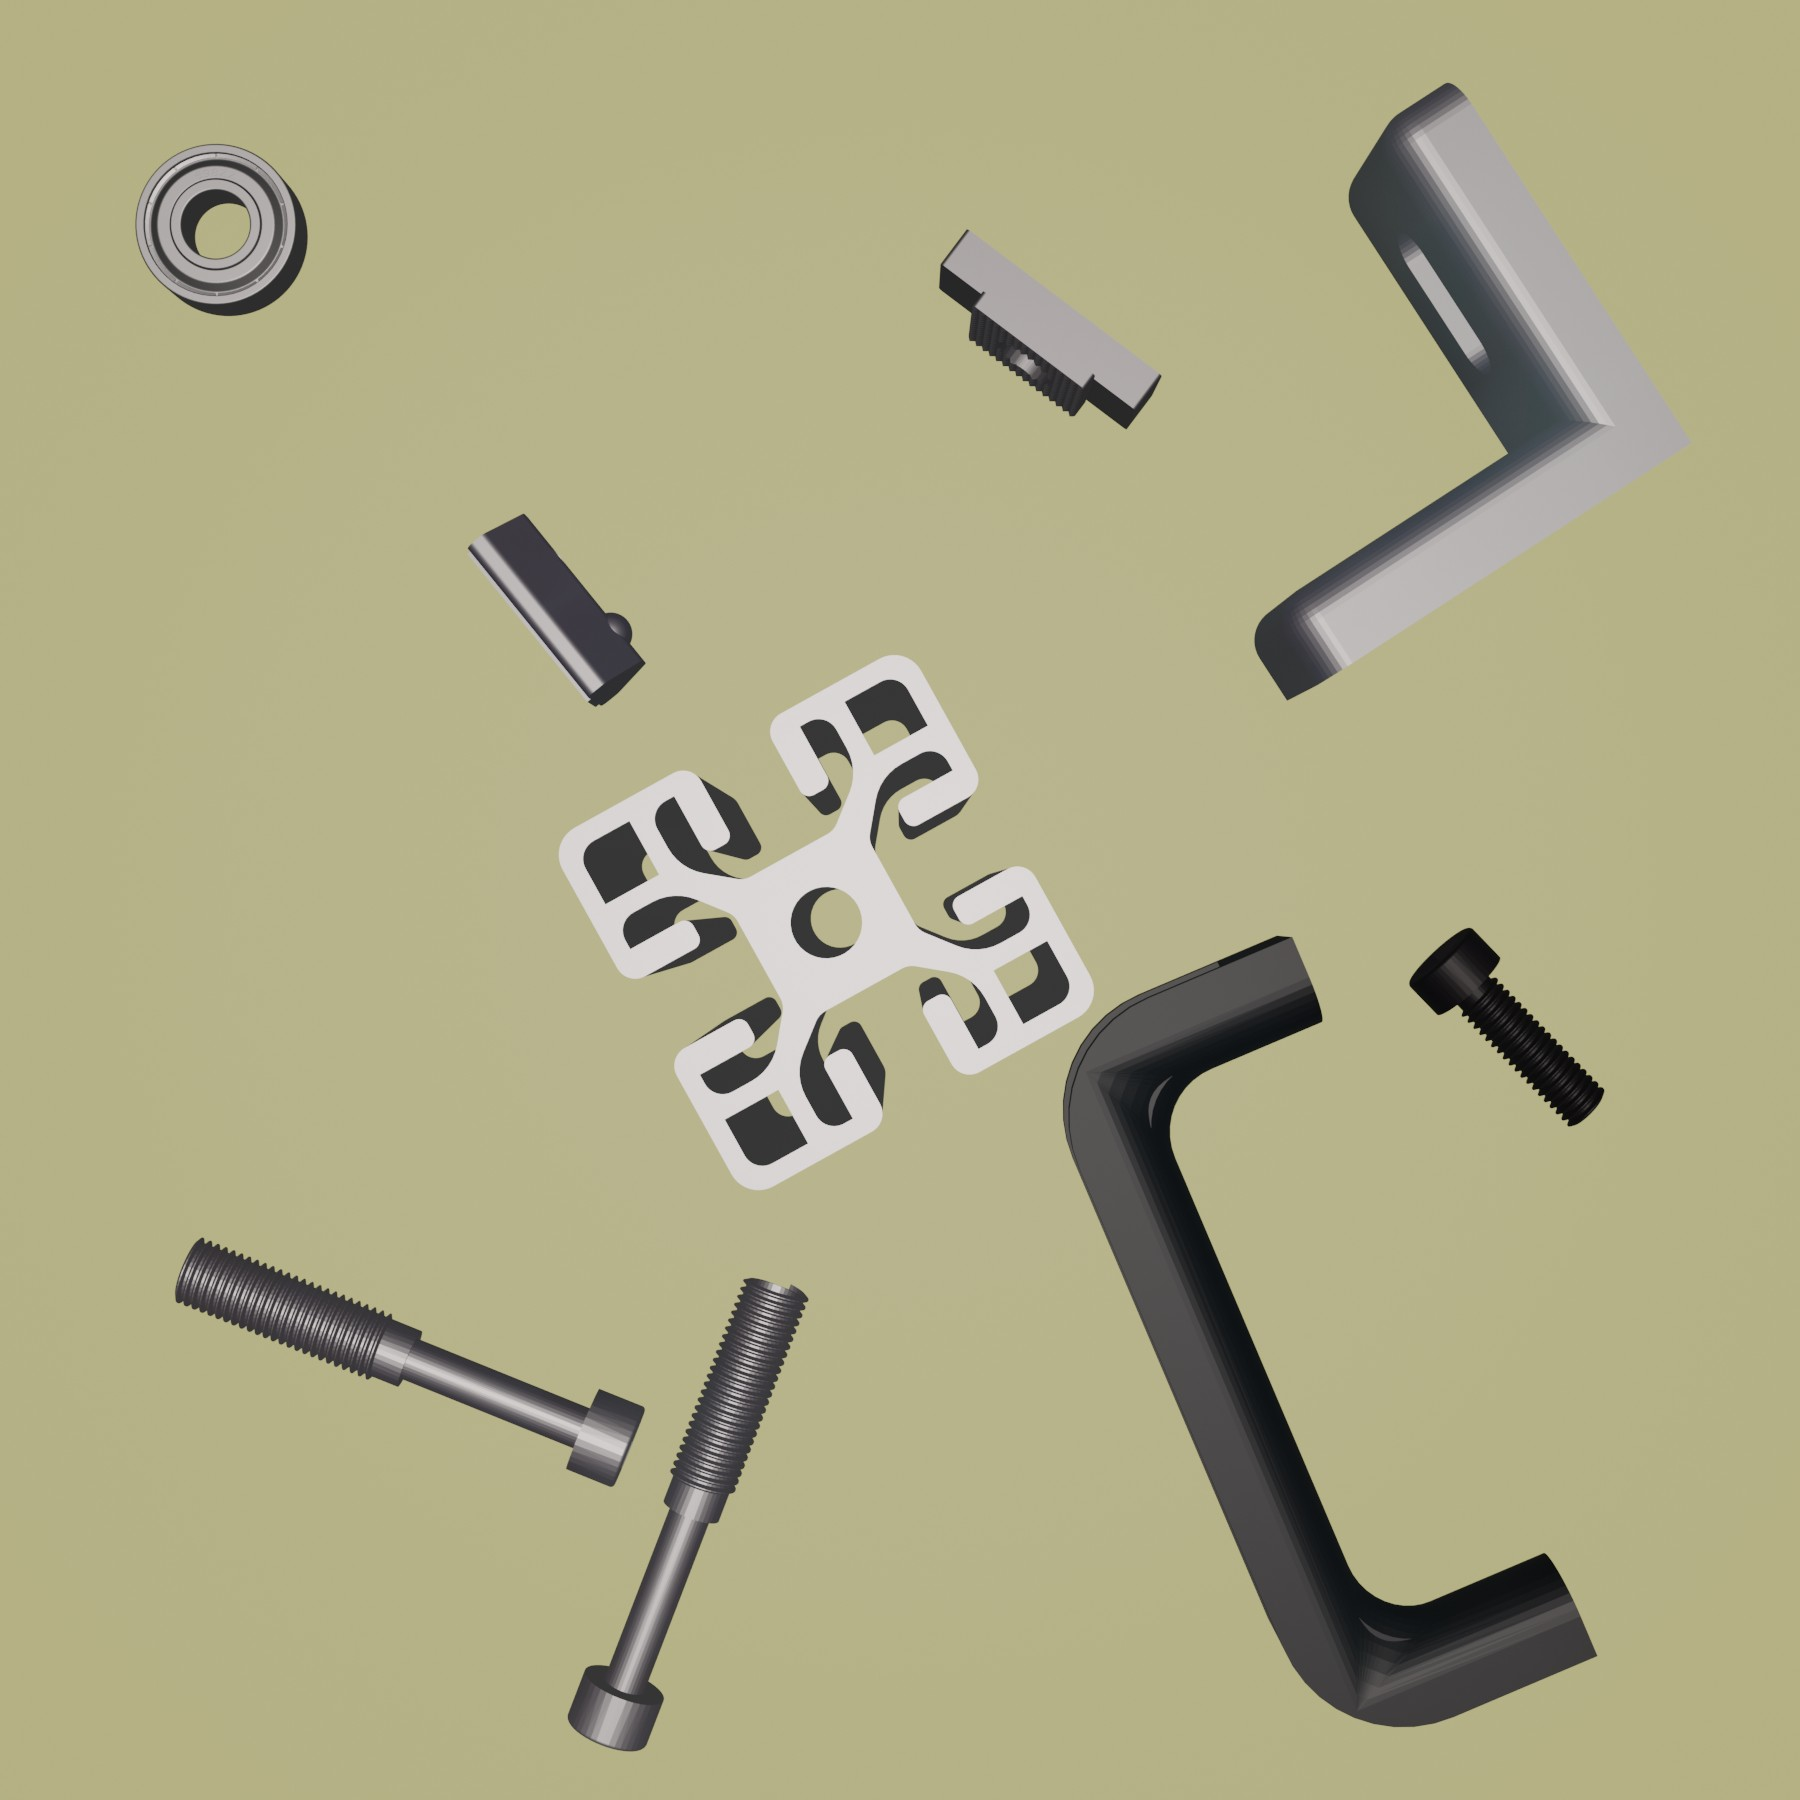Aluminium Extension: (555, 653, 1093, 1195)
Ball Bearing: (134, 138, 312, 318)
Multiwinkel: (1253, 76, 1693, 704)
Pull Handle: (1062, 930, 1597, 1731)
Shoulder Socket Head Cap Screw: (170, 1235, 646, 1488), (565, 1274, 809, 1755)
Socket Head Cap Screw: (1408, 925, 1605, 1131)
T Nut Square: (933, 226, 1162, 432)
T Spring Nut: (465, 511, 648, 709)
